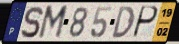5: (90, 6, 113, 40)
8: (69, 6, 89, 39)
D: (111, 5, 136, 39)
M: (36, 4, 70, 41)
P: (131, 5, 160, 40)
S: (19, 5, 44, 40)
